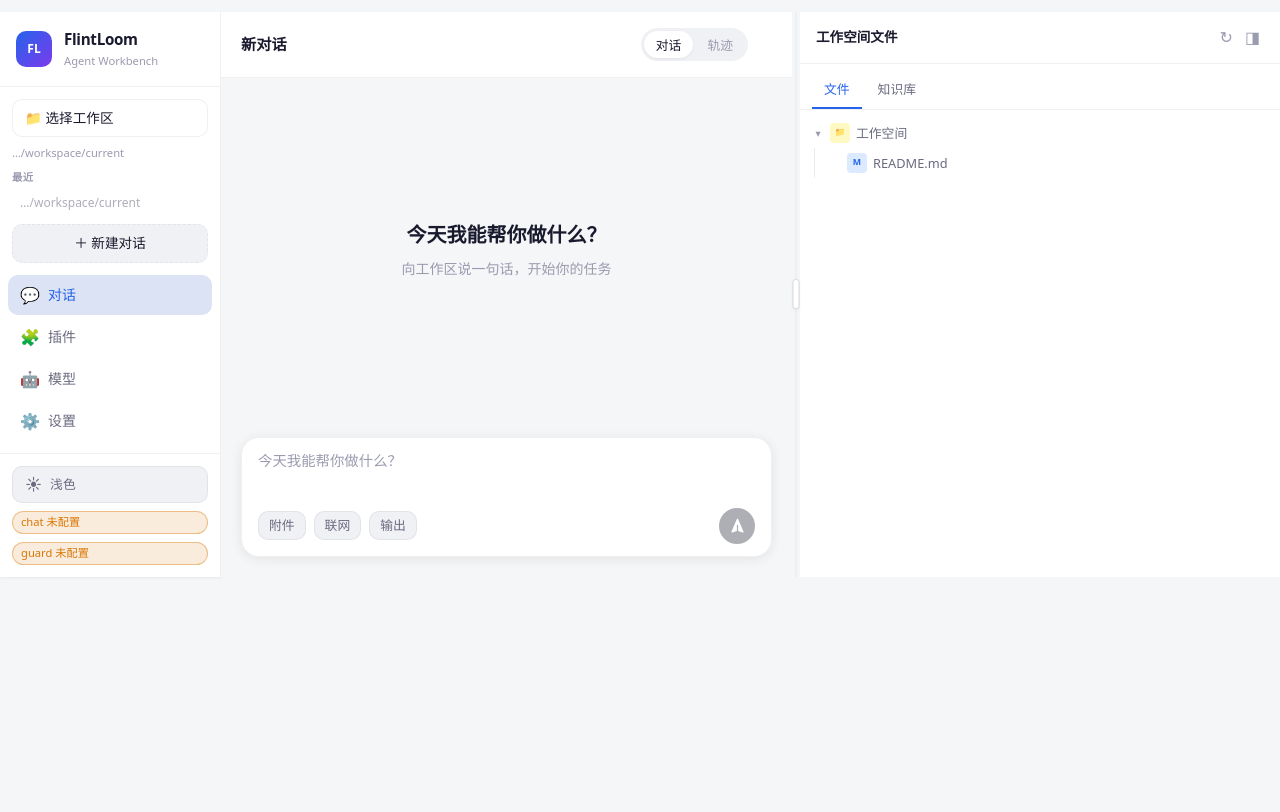
Test: App › loads knowledge list with Import disabled until a file is clicked
Click the button "知识库".
click(897, 91)  # box [866,72,928,109]
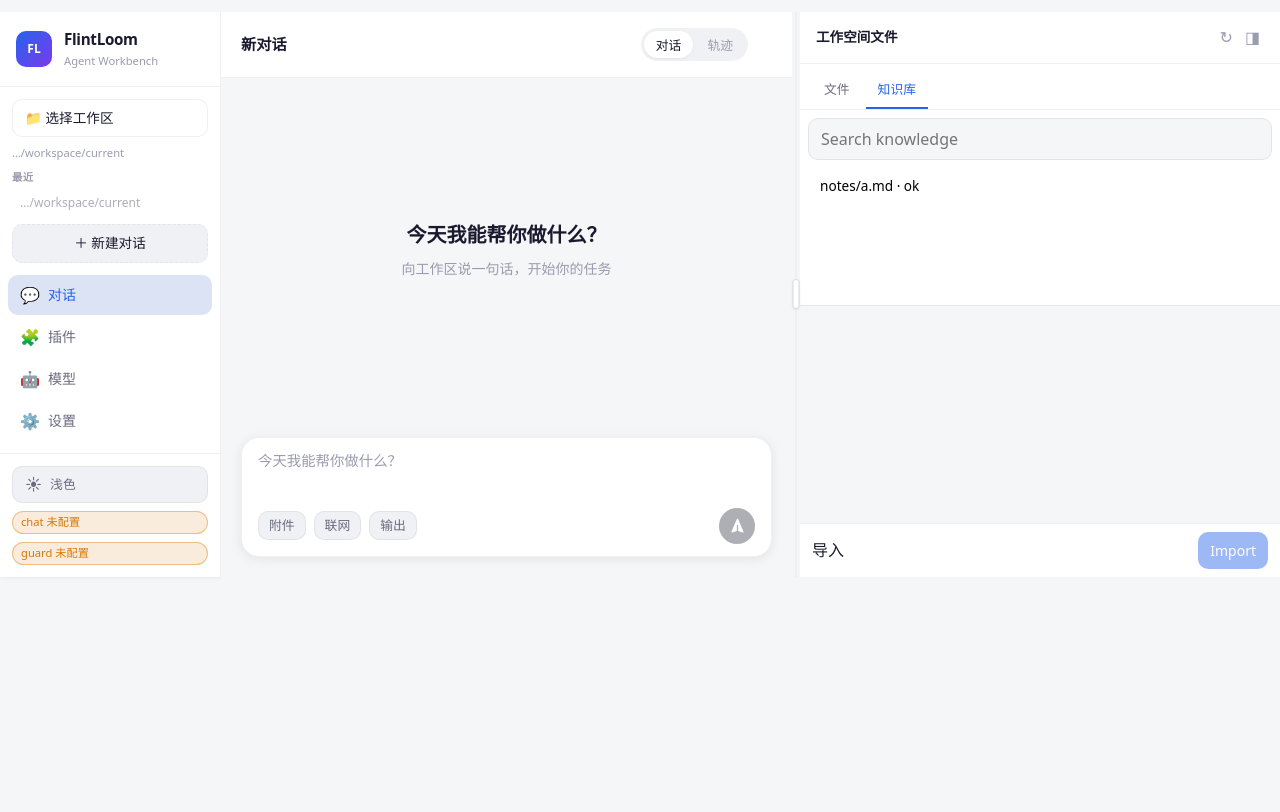
Check: the button "Import" is disabled, box [1198,532,1268,569]
